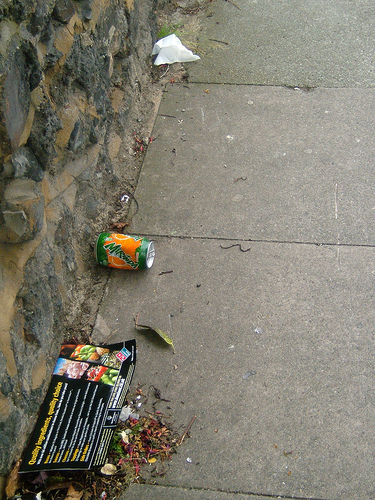litter: (18, 332, 138, 474), (93, 229, 156, 273), (147, 33, 198, 65)
